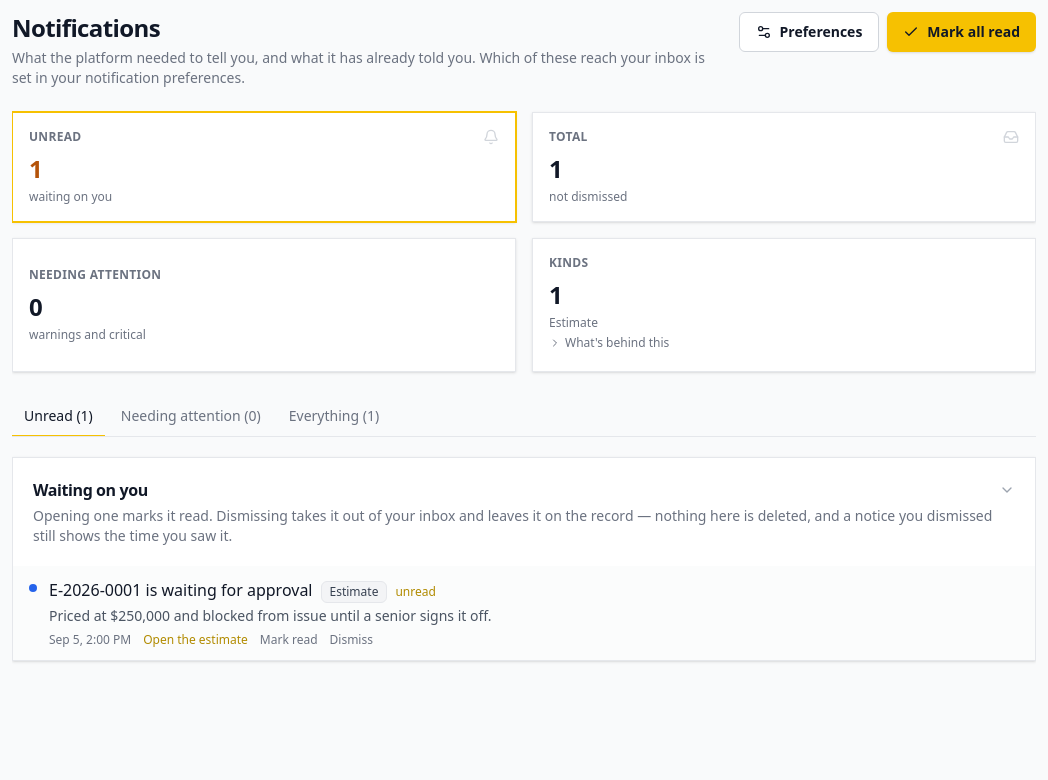
Test: the notifications screen › says so rather than showing an empty list when nothing needs attention
Click the button with aria-label "Show only warnings and critical notices". click: (95, 274)
box: [12,238,516,372]
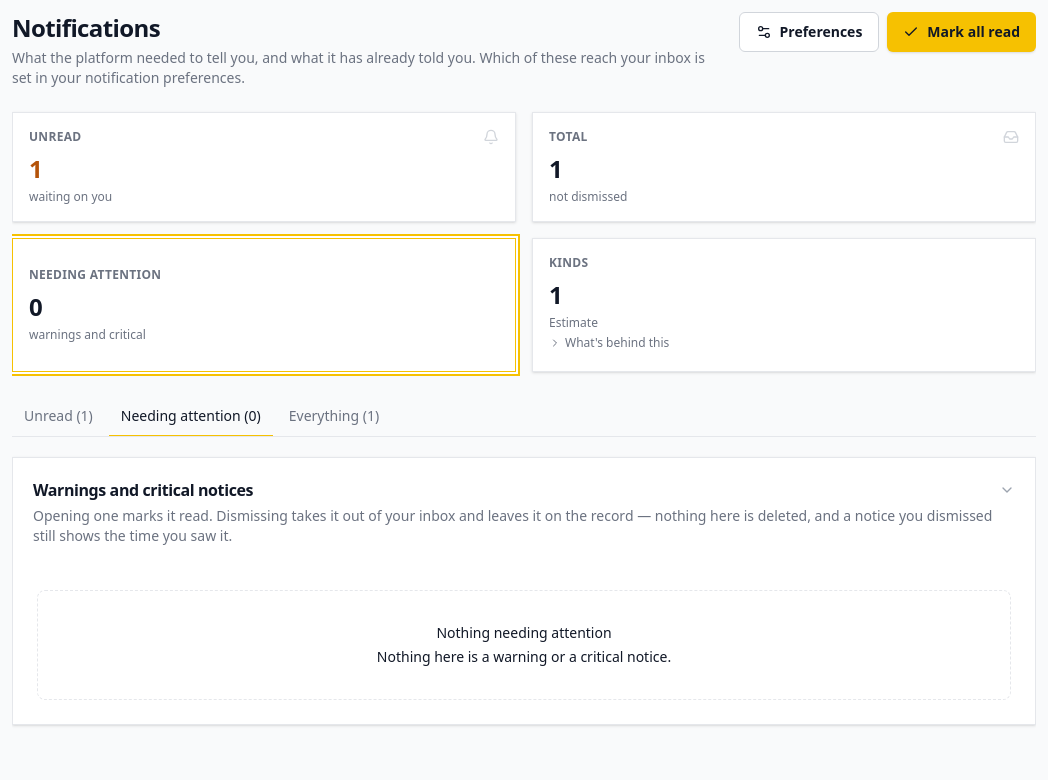
Now the text "Nothing needing attention" is shown, box [436,623,612,642]
Now the text "Nothing here is a warning or a critical notice." is shown, box [377,647,671,666]
